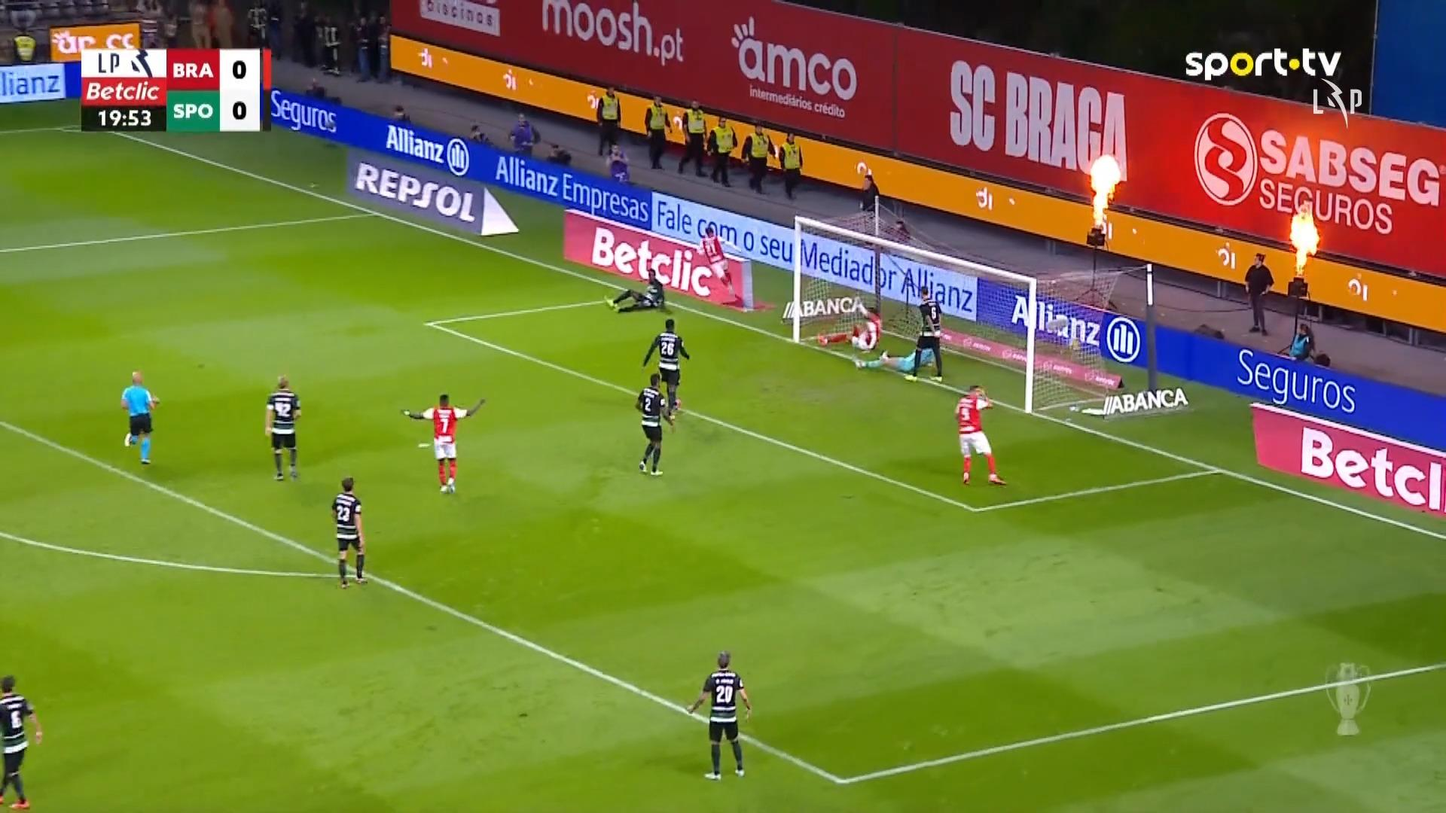goalkeeper: (853, 346, 938, 374)
player: (685, 650, 752, 780), (400, 392, 485, 494), (0, 674, 43, 808), (954, 383, 1007, 486), (641, 318, 690, 415), (331, 476, 368, 589), (263, 374, 302, 480), (634, 373, 674, 476), (905, 285, 944, 382), (815, 306, 881, 351), (603, 267, 665, 312), (698, 226, 735, 296)
referee: (120, 370, 160, 464)
